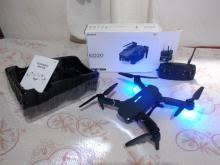drone: (78, 71, 205, 148)
